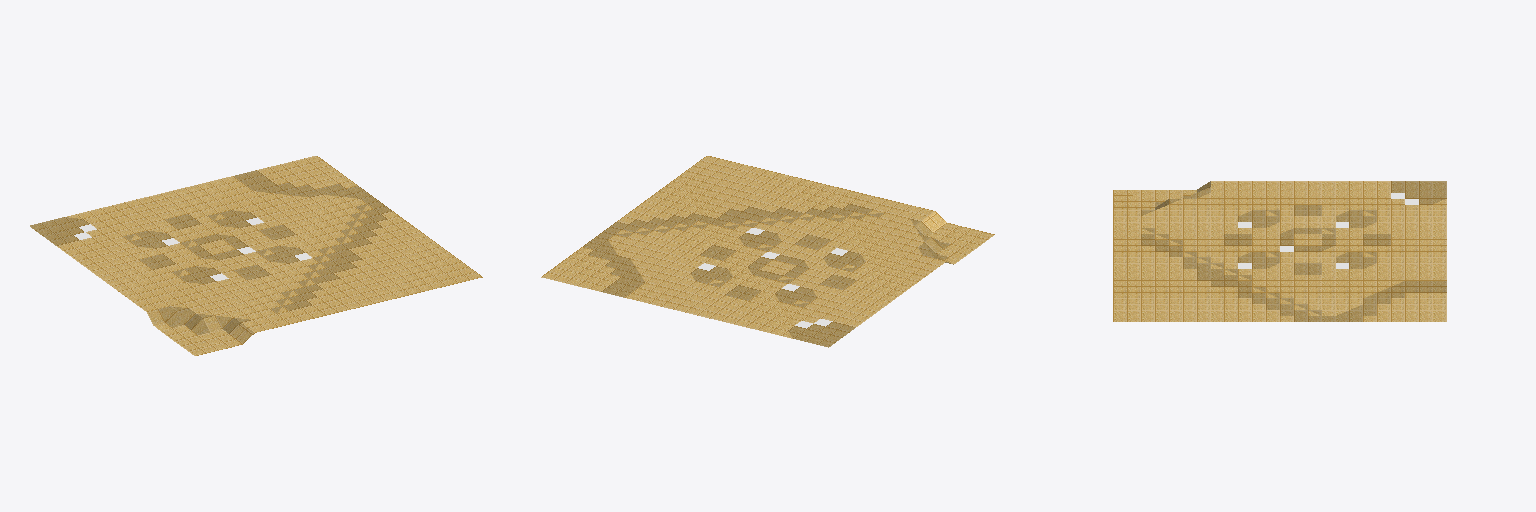
3 views of the same model, side by side, from view 1: azimuth 30°, elevation 25°; view 2: azimuth 150°, elevation 25°; view 3: azimuth 270°, elevation 25° (orthographic).
Visible parts, largest first — view 1: FloorCorner_1; view 2: FloorCorner_1; view 3: FloorCorner_1.
Part boxes in pixels (x1,y1,x2,y2): FloorCorner_1: (30, 156, 482, 355); FloorCorner_1: (541, 156, 994, 347); FloorCorner_1: (1113, 181, 1446, 321).
Size of the model in its own units: 24 by 0.7105 by 24.
Materials: 11 (10 with a texture image).